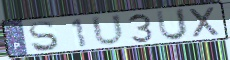1: (70, 17, 89, 48)
3: (126, 12, 155, 44)
S: (28, 20, 61, 53)
U: (89, 12, 127, 48), (154, 7, 190, 42)
X: (187, 5, 223, 40)
